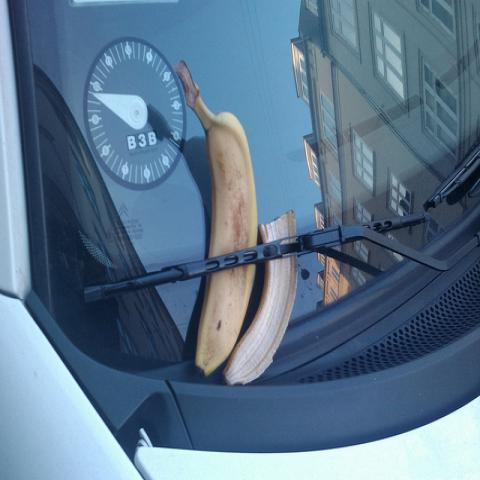car: (2, 4, 480, 479)
